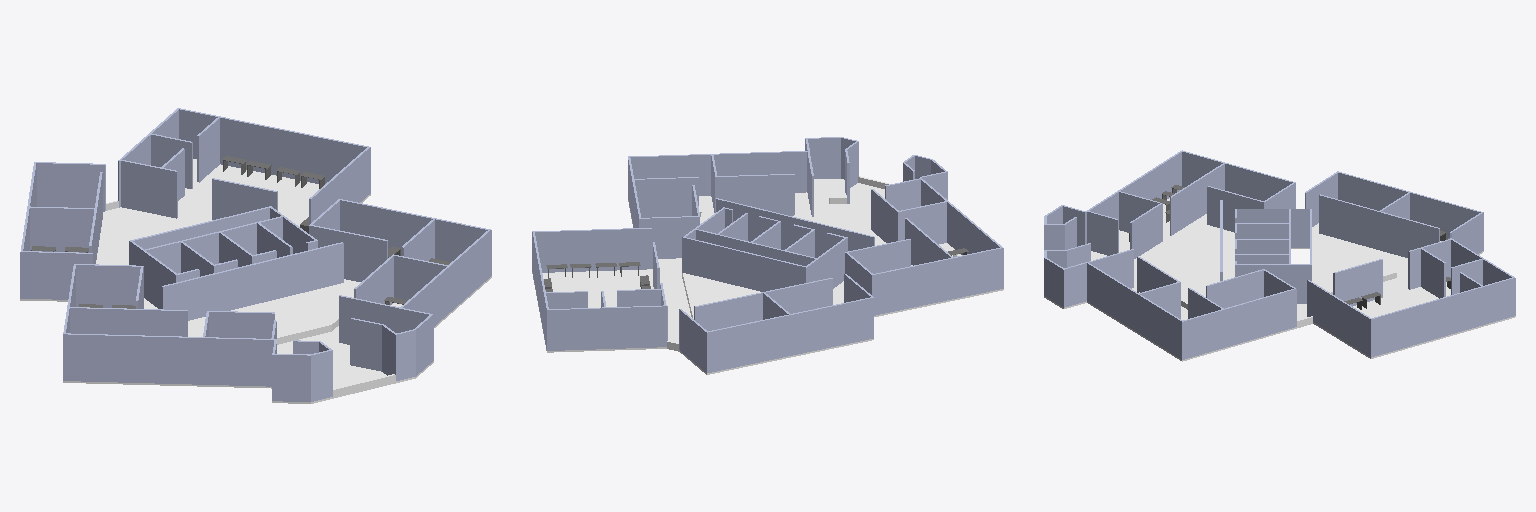
robot.urdf — Plano_obstaculos:
<?xml version="1.0" encoding="utf-8"?>
<!-- This URDF was automatically created by SolidWorks to URDF Exporter! Originally created by [author] ([email redacted]) 
     Commit Version: 1.5.1-0-g916b5db  Build Version: 1.5.7152.31018
     For more information, please see http://wiki.ros.org/sw_urdf_exporter -->
<robot
  name="Plano_obstaculos">
<gazebo reference="Escritorios"> <material>Gazebo/Black</material> </gazebo>
<gazebo reference="Sillas"> <material>Gazebo/DarkGrey</material> </gazebo>
<gazebo reference="Paredes"> <material>Gazebo/Gold</material> </gazebo>
<gazebo reference="Plano"> <material>Gazebo/WoodFloor</material> </gazebo>
  <link
    name="Plano">
    <inertial>
      <origin
        xyz="-8.3771012885608 -17.8787342671875 0.154574729765122"
        rpy="0 0 0" />
      <mass
        value="105773.496434206" />
      <inertia
        ixx="4345973.25056542"
        ixy="-517592.207533352"
        ixz="3.53763211193037E-11"
        iyy="3034064.33966892"
        iyz="2.66757526866734E-10"
        izz="7377549.61887828" />
    </inertial>
    <visual>
      <origin
        xyz="0 0 0"
        rpy="0 0 0" />
      <geometry>
        <mesh
          filename="package://Plano_obstaculos/meshes/Plano.STL" />
      </geometry>
      <material
        name="">
        <color
          rgba="1 1 1 1" />
      </material>
    </visual>
    <collision>
      <origin
        xyz="0 0 0"
        rpy="0 0 0" />
      <geometry>
        <mesh
          filename="package://Plano_obstaculos/meshes/Plano.STL" />
      </geometry>
    </collision>
  </link>
  <link
    name="Paredes">
    <inertial>
      <origin
        xyz="-8.33486592764713 1.62 17.2787605001807"
        rpy="0 0 0" />
      <mass
        value="106998.234725186" />
      <inertia
        ixx="1884398.41780361"
        ixy="2.94611619678244E-11"
        ixz="-46224.2076186337"
        iyy="2975088.2144271"
        iyz="1.78280751339617E-10"
        izz="1251187.14871118" />
    </inertial>
    <visual>
      <origin
        xyz="0 0 0"
        rpy="0 0 0" />
      <geometry>
        <mesh
          filename="package://Plano_obstaculos/meshes/Paredes.STL" />
      </geometry>
      <material
        name="">
        <color
          rgba="0.792156862745098 0.819607843137255 0.933333333333333 1" />
      </material>
    </visual>
    <collision>
      <origin
        xyz="0 0 0"
        rpy="0 0 0" />
      <geometry>
        <mesh
          filename="package://Plano_obstaculos/meshes/Paredes.STL" />
      </geometry>
    </collision>
  </link>
  <joint
    name="paredes"
    type="fixed">
    <origin
      xyz="0 0 0"
      rpy="1.5707963267949 0 0" />
    <parent
      link="Plano" />
    <child
      link="Paredes" />
    <axis
      xyz="0 0 0" />
  </joint>
  <link
    name="Mural">
    <inertial>
      <origin
        xyz="-8.9133737468096 1.62 20.7325397890786"
        rpy="0 0 0" />
      <mass
        value="5471.98532264628" />
      <inertia
        ixx="4114.24896446467"
        ixy="-7.20014707628193E-13"
        ixz="8.82258437282567E-14"
        iyy="67436.431005008"
        iyz="-1.12502298066905E-14"
        izz="71530.1600245127" />
    </inertial>
    <visual>
      <origin
        xyz="0 0 0"
        rpy="0 0 0" />
      <geometry>
        <mesh
          filename="package://Plano_obstaculos/meshes/Mural.STL" />
      </geometry>
      <material
        name="">
        <color
          rgba="0.792156862745098 0.819607843137255 0.933333333333333 1" />
      </material>
    </visual>
    <collision>
      <origin
        xyz="0 0 0"
        rpy="0 0 0" />
      <geometry>
        <mesh
          filename="package://Plano_obstaculos/meshes/Mural.STL" />
      </geometry>
    </collision>
  </link>
  <joint
    name="mural"
    type="fixed">
    <origin
      xyz="0 0 0"
      rpy="1.5707963267949 0 0" />
    <parent
      link="Plano" />
    <child
      link="Mural" />
    <axis
      xyz="0 0 0" />
  </joint>
  <link
    name="Escritorios">
    <inertial>
      <origin
        xyz="-10.707418909614 0.474076989648717 -8.16466688805438"
        rpy="0 0 0" />
      <mass
        value="3550.76795756857" />
      <inertia
        ixx="657.620070679481"
        ixy="-0.0224136843097853"
        ixz="-47.9494436861656"
        iyy="1117.13974257674"
        iyz="-0.113062286977379"
        izz="898.949924210325" />
    </inertial>
    <visual>
      <origin
        xyz="0 0 0"
        rpy="0 0 0" />
      <geometry>
        <mesh
          filename="package://Plano_obstaculos/meshes/Escritorios.STL" />
      </geometry>
      <material
        name="">
        <color
          rgba="0.501960784313725 0.501960784313725 0.501960784313725 1" />
      </material>
    </visual>
    <collision>
      <origin
        xyz="0 0 0"
        rpy="0 0 0" />
      <geometry>
        <mesh
          filename="package://Plano_obstaculos/meshes/Escritorios.STL" />
      </geometry>
    </collision>
  </link>
  <joint
    name="escritorios"
    type="fixed">
    <origin
      xyz="-12.5447567464246 -4.40841503831656 0.120000000000005"
      rpy="1.5707963267949 0 2.55419064663925" />
    <parent
      link="Plano" />
    <child
      link="Escritorios" />
    <axis
      xyz="0 0 0" />
  </joint>
  <link
    name="Botes">
    <inertial>
      <origin
        xyz="-10.2024121833617 0.221862551470592 -2.46960992224127"
        rpy="0 0 0" />
      <mass
        value="153.926715683122" />
      <inertia
        ixx="2.74181939798813"
        ixy="-3.85223685887766E-15"
        ixz="0.0352710984864867"
        iyy="1.75944101800951"
        iyz="-1.56068127866274E-14"
        izz="2.4648494899137" />
    </inertial>
    <visual>
      <origin
        xyz="0 0 0"
        rpy="0 0 0" />
      <geometry>
        <mesh
          filename="package://Plano_obstaculos/meshes/Botes.STL" />
      </geometry>
      <material
        name="">
        <color
          rgba="1 1 1 1" />
      </material>
    </visual>
    <collision>
      <origin
        xyz="0 0 0"
        rpy="0 0 0" />
      <geometry>
        <mesh
          filename="package://Plano_obstaculos/meshes/Botes.STL" />
      </geometry>
    </collision>
  </link>
  <joint
    name="botes"
    type="fixed">
    <origin
      xyz="-17.9717798005568 -26.1510874426371 0.120000000000002"
      rpy="1.5707963267949 0 -2.15819833374566" />
    <parent
      link="Plano" />
    <child
      link="Botes" />
    <axis
      xyz="0 0 0" />
  </joint>
  <link
    name="Sillas">
    <inertial>
      <origin
        xyz="-0.00737317606634313 0.437725988586924 -11.5805190744389"
        rpy="0 0 0" />
      <mass
        value="1450.46121787082" />
      <inertia
        ixx="90.3015487054743"
        ixy="-1.1842560707041"
        ixz="-0.0547897409667399"
        iyy="81.7015687320995"
        iyz="-4.96253730009256"
        izz="90.7106343159441" />
    </inertial>
    <visual>
      <origin
        xyz="0 0 0"
        rpy="0 0 0" />
      <geometry>
        <mesh
          filename="package://Plano_obstaculos/meshes/Sillas.STL" />
      </geometry>
      <material
        name="">
        <color
          rgba="0.250980392156863 0.250980392156863 0.250980392156863 1" />
      </material>
    </visual>
    <collision>
      <origin
        xyz="0 0 0"
        rpy="0 0 0" />
      <geometry>
        <mesh
          filename="package://Plano_obstaculos/meshes/Sillas.STL" />
      </geometry>
    </collision>
  </link>
  <joint
    name="sillas"
    type="fixed">
    <origin
      xyz="-14.6394745785491 -26.5367427727246 0.120000000000002"
      rpy="1.5707963267949 0 -0.602403534081331" />
    <parent
      link="Plano" />
    <child
      link="Sillas" />
    <axis
      xyz="0 0 0" />
  </joint>
</robot>

--- What the picture shows (computed from the rendered views, not written in the file) ---
The picture shows the robot from 3 angles, left to right: view 1: azimuth 30°, elevation 25°; view 2: azimuth 150°, elevation 25°; view 3: azimuth 270°, elevation 25°; orthographic projection.
Robot: Plano_obstaculos — 6 links, 5 joints (5 fixed); root link Plano; default pose: all joints at 0.
Links seen in each view (by area): view 1: Paredes, Plano, Mural, Escritorios; view 2: Paredes, Plano, Mural, Escritorios; view 3: Paredes, Plano, Escritorios.
Boxes of the visible links, bbox=[...] form: Paredes: bbox=[20, 108, 491, 401]; Plano: bbox=[20, 159, 491, 403]; Mural: bbox=[162, 242, 343, 320]; Escritorios: bbox=[31, 156, 450, 308]; Paredes: bbox=[532, 137, 1003, 372]; Plano: bbox=[532, 176, 1003, 374]; Mural: bbox=[716, 198, 874, 257]; Escritorios: bbox=[544, 248, 968, 291]; Paredes: bbox=[1044, 150, 1515, 359]; Plano: bbox=[1044, 198, 1515, 361]; Escritorios: bbox=[1129, 185, 1450, 309].
Size in the robot's own frame: 28.85 by 33.46 by 3.12 metres.
Meshes: 6 distinct files referenced, 5 mesh visuals loaded (5 binary STL); not drawn: 1 (reference not matched to a file when rendering).